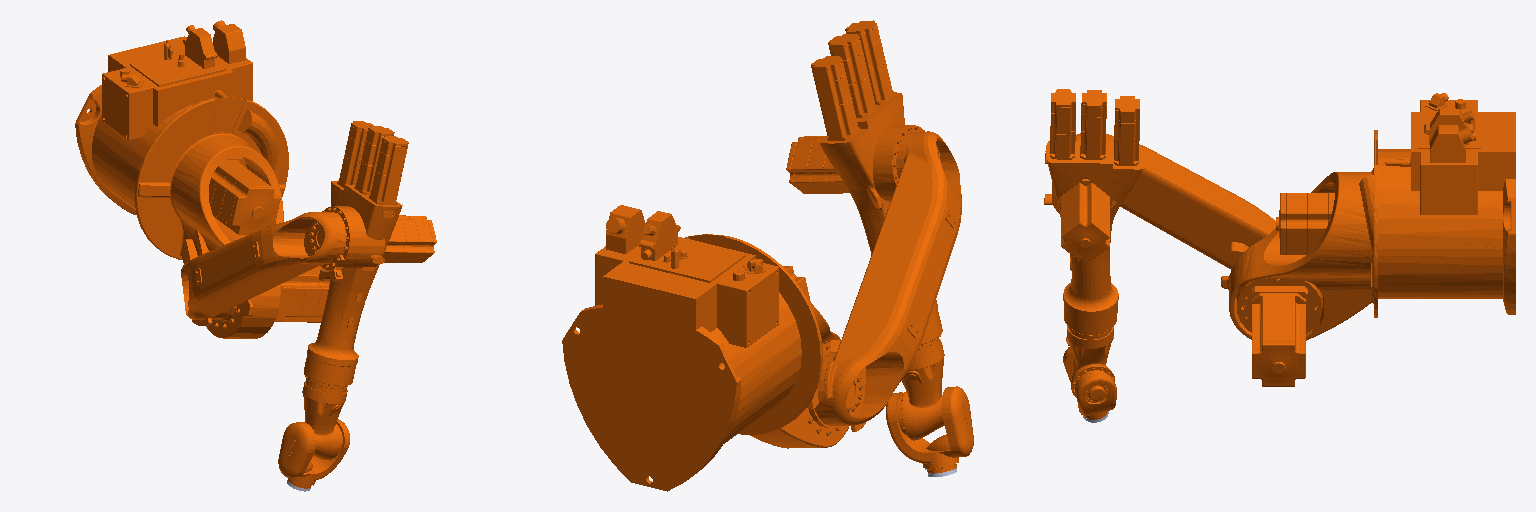
URDF robot description (kuka kr16 assembly URDF):
<robot
  name="kuka kr16 assembly URDF">
  <link
    name="base_link">
    <inertial>
      <origin
        xyz="0.544335726564569 -0.11036540052519 0.358077235062418"
        rpy="0 0 0" />
      <mass
        value="70.9384782037454" />
      <inertia
        ixx="2.17816157599672"
        ixy="-0.0355455223260792"
        ixz="-8.63444775765357E-05"
        iyy="1.74808344841311"
        iyz="0.0611579961728566"
        izz="2.23376305112291" />
    </inertial>
    <visual>
      <origin
        xyz="0 0 0"
        rpy="0 0 0" />
      <geometry>
        <mesh
          filename="package://kuka kr16 assembly URDF/meshes/base_link.STL" />
      </geometry>
      <material
        name="">
        <color
          rgba="0.917647058823529 0.43921568627451 0.0666666666666667 1" />
      </material>
    </visual>
    <collision>
      <origin
        xyz="0 0 0"
        rpy="0 0 0" />
      <geometry>
        <mesh
          filename="package://kuka kr16 assembly URDF/meshes/base_link.STL" />
      </geometry>
    </collision>
  </link>
  <link
    name="rotary head">
    <inertial>
      <origin
        xyz="0.14203 0.033929 0.2326"
        rpy="0 0 0" />
      <mass
        value="29.917" />
      <inertia
        ixx="0.72489"
        ixy="-0.11189"
        ixz="-0.29983"
        iyy="1.0023"
        iyz="-0.097095"
        izz="0.93296" />
    </inertial>
    <visual>
      <origin
        xyz="0 0 0"
        rpy="0 0 0" />
      <geometry>
        <mesh
          filename="package://kuka kr16 assembly URDF/meshes/rotary head.STL" />
      </geometry>
      <material
        name="">
        <color
          rgba="0.91765 0.43922 0.066667 1" />
      </material>
    </visual>
    <collision>
      <origin
        xyz="0 0 0"
        rpy="0 0 0" />
      <geometry>
        <mesh
          filename="package://kuka kr16 assembly URDF/meshes/rotary head.STL" />
      </geometry>
    </collision>
  </link>
  <joint
    name="rotary head"
    type="continuous">
    <origin
      xyz="0.54263 -0.51246 -0.15374"
      rpy="-1.5708 1.3273 -3.1416" />
    <parent
      link="base_link" />
    <child
      link="rotary head" />
    <axis
      xyz="0 0 1" />
  </joint>
  <link
    name="lower arm">
    <inertial>
      <origin
        xyz="0.00015047 0.30837 0.16968"
        rpy="0 0 0" />
      <mass
        value="13.477" />
      <inertia
        ixx="0.5502"
        ixy="-0.00050801"
        ixz="0.00016379"
        iyy="0.056353"
        iyz="-0.025425"
        izz="0.54928" />
    </inertial>
    <visual>
      <origin
        xyz="0 0 0"
        rpy="0 0 0" />
      <geometry>
        <mesh
          filename="package://kuka kr16 assembly URDF/meshes/lower arm.STL" />
      </geometry>
      <material
        name="">
        <color
          rgba="0.91765 0.43922 0.066667 1" />
      </material>
    </visual>
    <collision>
      <origin
        xyz="0 0 0"
        rpy="0 0 0" />
      <geometry>
        <mesh
          filename="package://kuka kr16 assembly URDF/meshes/lower arm.STL" />
      </geometry>
    </collision>
  </link>
  <joint
    name="lower arm"
    type="revolute">
    <origin
      xyz="0.26 0 0.332"
      rpy="1.5708 -0.61512 -2.4469E-15" />
    <parent
      link="rotary head" />
    <child
      link="lower arm" />
    <axis
      xyz="0 0 -1" />
    <limit
      lower="-0.51935"
      upper="2.7968"
      effort="0"
      velocity="0" />
  </joint>
  <link
    name="upper arm">
    <inertial>
      <origin
        xyz="0.040381 -0.012272 -0.025773"
        rpy="0 0 0" />
      <mass
        value="17.293" />
      <inertia
        ixx="0.13291"
        ixy="0.0059275"
        ixz="-0.0065838"
        iyy="0.76622"
        iyz="0.0011145"
        izz="0.73586" />
    </inertial>
    <visual>
      <origin
        xyz="0 0 0"
        rpy="0 0 0" />
      <geometry>
        <mesh
          filename="package://kuka kr16 assembly URDF/meshes/upper arm.STL" />
      </geometry>
      <material
        name="">
        <color
          rgba="0.91765 0.43922 0.066667 1" />
      </material>
    </visual>
    <collision>
      <origin
        xyz="0 0 0"
        rpy="0 0 0" />
      <geometry>
        <mesh
          filename="package://kuka kr16 assembly URDF/meshes/upper arm.STL" />
      </geometry>
    </collision>
  </link>
  <joint
    name="upper arm"
    type="revolute">
    <origin
      xyz="0 0.68 0"
      rpy="1.0996E-15 1.0645E-15 -0.59767" />
    <parent
      link="lower arm" />
    <child
      link="upper arm" />
    <axis
      xyz="0 0 -1" />
    <limit
      lower="-4.4374"
      upper="0.51935"
      effort="0"
      velocity="0" />
  </joint>
  <link
    name="forearm twisting">
    <inertial>
      <origin
        xyz="1.6613E-05 0.0063474 -0.14486"
        rpy="0 0 0" />
      <mass
        value="2.4384" />
      <inertia
        ixx="0.014576"
        ixy="-2.4746E-06"
        ixz="-1.7816E-06"
        iyy="0.014406"
        iyz="0.0012539"
        izz="0.0043726" />
    </inertial>
    <visual>
      <origin
        xyz="0 0 0"
        rpy="0 0 0" />
      <geometry>
        <mesh
          filename="package://kuka kr16 assembly URDF/meshes/forearm twisting.STL" />
      </geometry>
      <material
        name="">
        <color
          rgba="0.91765 0.43922 0.066667 1" />
      </material>
    </visual>
    <collision>
      <origin
        xyz="0 0 0"
        rpy="0 0 0" />
      <geometry>
        <mesh
          filename="package://kuka kr16 assembly URDF/meshes/forearm twisting.STL" />
      </geometry>
    </collision>
  </link>
  <joint
    name="forearm twisting"
    type="continuous">
    <origin
      xyz="0.44029 -0.0225 -0.018"
      rpy="-1.5708 0.23144 1.5708" />
    <parent
      link="upper arm" />
    <child
      link="forearm twisting" />
    <axis
      xyz="0 0 1" />
  </joint>
  <link
    name="wrist">
    <inertial>
      <origin
        xyz="0.049456 -0.00019093 0.0042253"
        rpy="0 0 0" />
      <mass
        value="1.6974" />
      <inertia
        ixx="0.0082548"
        ixy="6.7936E-06"
        ixz="-0.00031272"
        iyy="0.011975"
        iyz="-2.1551E-05"
        izz="0.0062431" />
    </inertial>
    <visual>
      <origin
        xyz="0 0 0"
        rpy="0 0 0" />
      <geometry>
        <mesh
          filename="package://kuka kr16 assembly URDF/meshes/wrist.STL" />
      </geometry>
      <material
        name="">
        <color
          rgba="0.91765 0.43922 0.066667 1" />
      </material>
    </visual>
    <collision>
      <origin
        xyz="0 0 0"
        rpy="0 0 0" />
      <geometry>
        <mesh
          filename="package://kuka kr16 assembly URDF/meshes/wrist.STL" />
      </geometry>
    </collision>
  </link>
  <joint
    name="wrist"
    type="revolute">
    <origin
      xyz="0 0 -0.22621"
      rpy="-1.5708 1.4272 -3.1416" />
    <parent
      link="forearm twisting" />
    <child
      link="wrist" />
    <axis
      xyz="0 0 -1" />
    <limit
      lower="-2.4125"
      upper="2.1253"
      effort="0"
      velocity="0" />
  </joint>
  <link
    name="axis6">
    <inertial>
      <origin
        xyz="-1.6653E-16 -2.2204E-16 -0.037417"
        rpy="0 0 0" />
      <mass
        value="0.044179" />
      <inertia
        ixx="1.59E-05"
        ixy="8.4703E-22"
        ixz="8.3062E-20"
        iyy="1.59E-05"
        iyz="2.5623E-20"
        izz="3.1063E-05" />
    </inertial>
    <visual>
      <origin
        xyz="0 0 0"
        rpy="0 0 0" />
      <geometry>
        <mesh
          filename="package://kuka kr16 assembly URDF/meshes/axis6.STL" />
      </geometry>
      <material
        name="">
        <color
          rgba="0.79216 0.81961 0.93333 1" />
      </material>
    </visual>
    <collision>
      <origin
        xyz="0 0 0"
        rpy="0 0 0" />
      <geometry>
        <mesh
          filename="package://kuka kr16 assembly URDF/meshes/axis6.STL" />
      </geometry>
    </collision>
  </link>
  <joint
    name="axis6"
    type="continuous">
    <origin
      xyz="0.11558 0 0.003"
      rpy="1.5708 1.5274 -1.5708" />
    <parent
      link="wrist" />
    <child
      link="axis6" />
    <axis
      xyz="0 0 1" />
  </joint>
</robot>

--- What the picture shows (computed from the rendered views, not written in the file) ---
3 views of the same robot in one strip: view 1: azimuth 30°, elevation 25°; view 2: azimuth 150°, elevation 25°; view 3: azimuth 270°, elevation 25° (orthographic).
Robot: kuka kr16 assembly URDF — 7 links, 6 joints (3 revolute, 3 continuous); root link base_link; default pose: every joint at zero.
Visible links, largest first — view 1: rotary head, base_link, upper arm, lower arm, wrist, forearm twisting; view 2: base_link, lower arm, upper arm, rotary head, wrist, forearm twisting; view 3: base_link, rotary head, upper arm, lower arm, wrist, forearm twisting.
Boxes of the visible links, <box> form: rotary head: <box>135,97,329,338</box>; base_link: <box>75,20,252,214</box>; upper arm: <box>304,121,436,388</box>; lower arm: <box>181,212,339,325</box>; wrist: <box>278,419,349,488</box>; forearm twisting: <box>302,378,347,459</box>; base_link: <box>562,205,801,491</box>; lower arm: <box>814,131,961,431</box>; upper arm: <box>786,20,942,349</box>; rotary head: <box>685,234,848,448</box>; wrist: <box>886,386,973,473</box>; forearm twisting: <box>900,339,944,440</box>; base_link: <box>1378,93,1515,314</box>; rotary head: <box>1221,130,1377,386</box>; upper arm: <box>1044,89,1144,334</box>; lower arm: <box>1076,133,1275,269</box>; wrist: <box>1063,347,1116,419</box>; forearm twisting: <box>1066,326,1114,396</box>.
Size in the robot's own frame: 0.5877 by 1.35 by 1.16 metres.
7 mesh visuals loaded from 7 distinct referenced files (7 binary STL).
